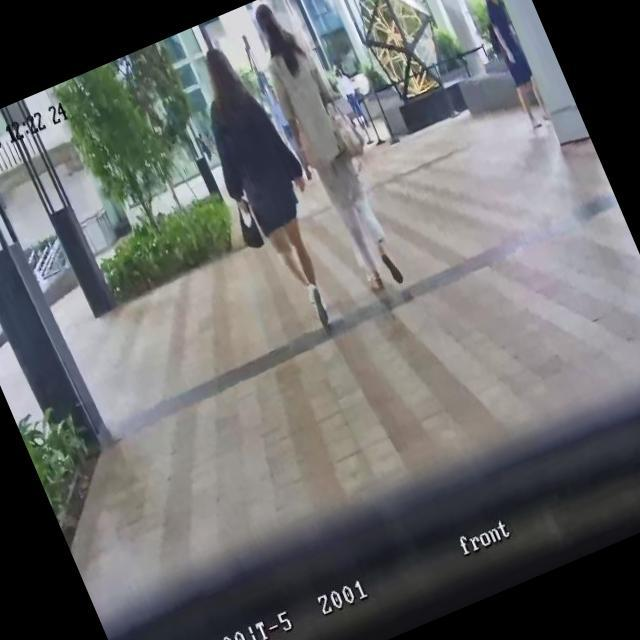person: (172, 32, 366, 347), (235, 0, 413, 302), (467, 0, 554, 131), (329, 61, 377, 145)
